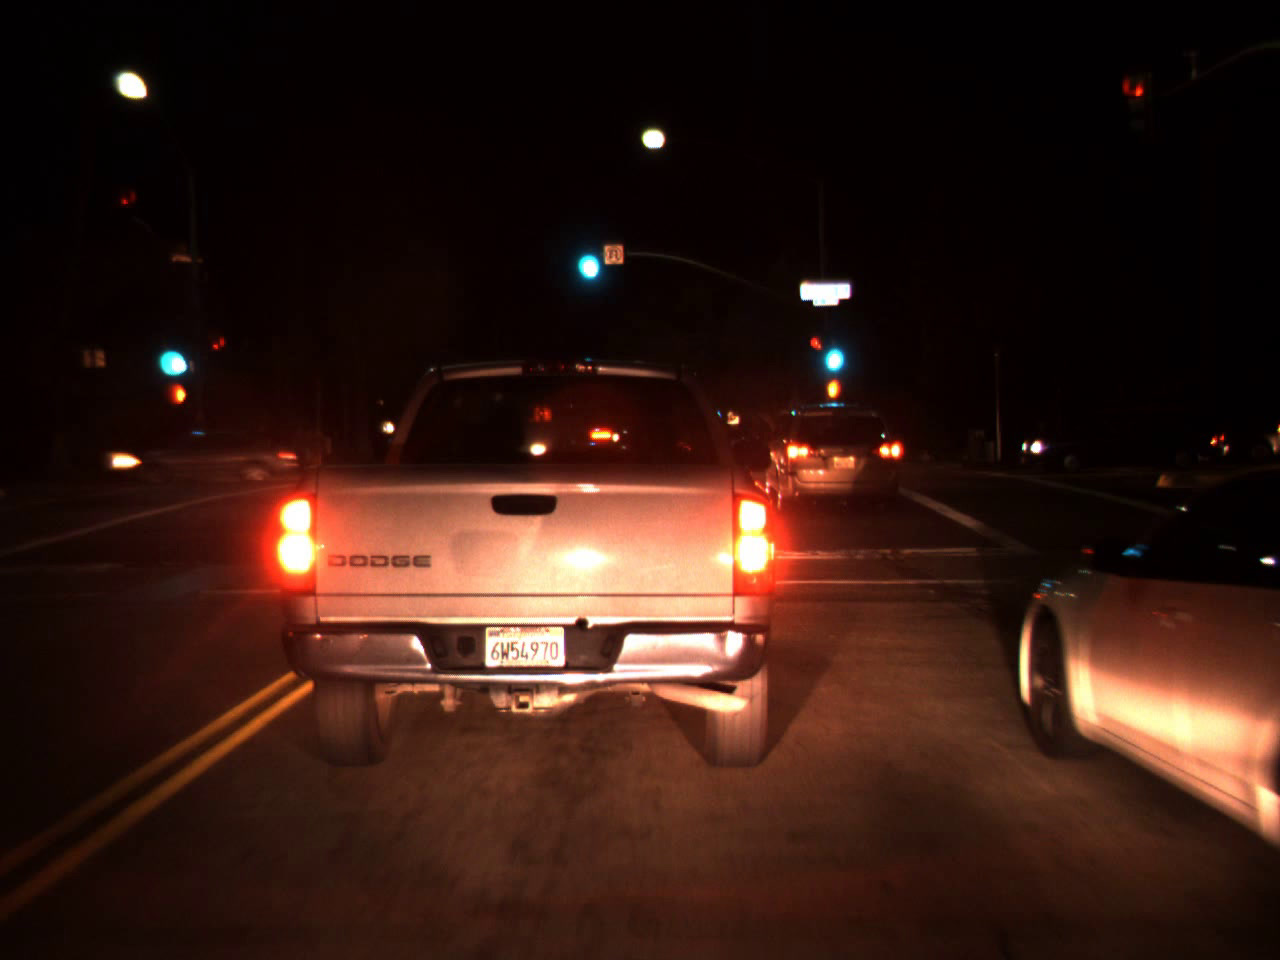go: (150, 322, 189, 382), (569, 223, 605, 289), (817, 320, 847, 380)
